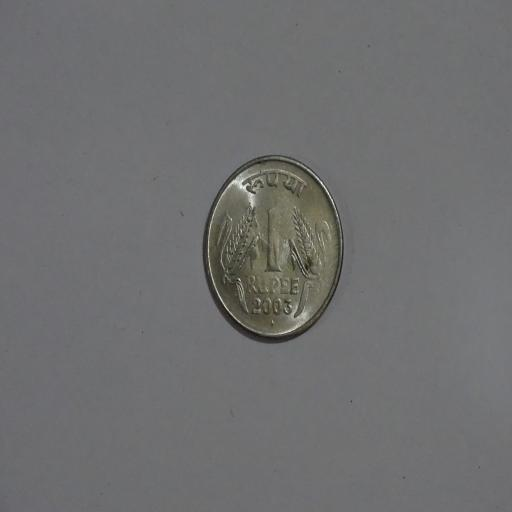rupee1: (201, 156, 344, 340)
